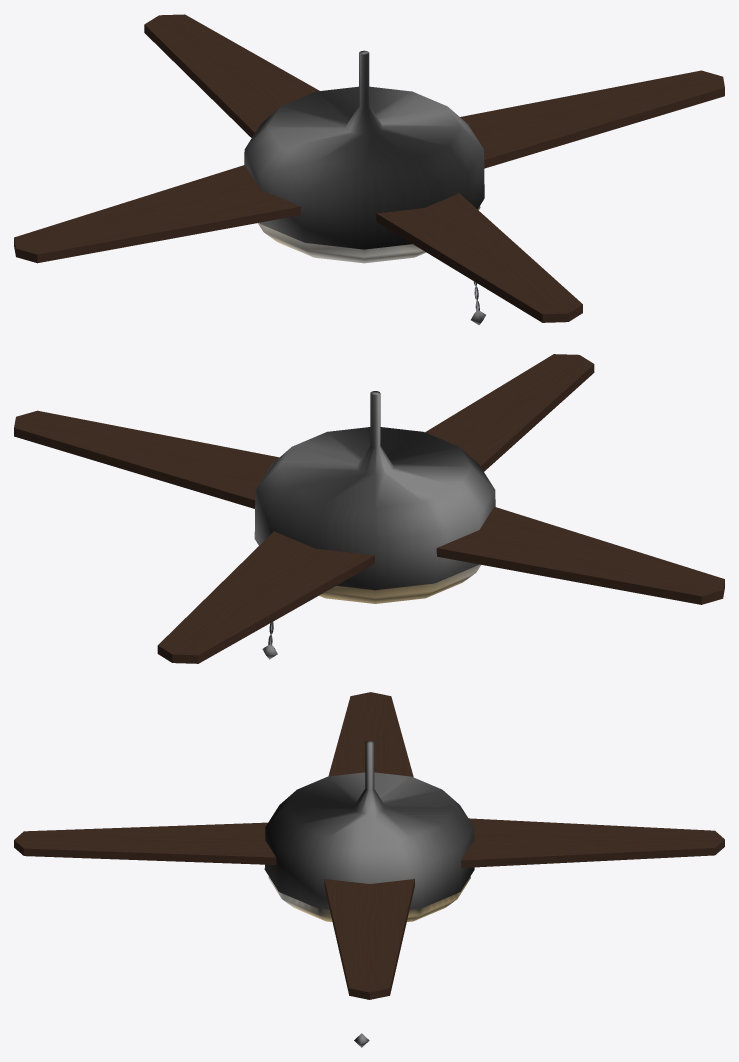
The model's file is Ceiling_Fan_B.FBX.
The picture shows the model from 3 angles, top to bottom: view 1: azimuth 30°, elevation 25°; view 2: azimuth 150°, elevation 25°; view 3: azimuth 270°, elevation 25°; orthographic projection. The views are drawn at different scales.
Parts seen in each view (by area): view 1: Fan_Blades, Ceiling_Fan; view 2: Fan_Blades, Ceiling_Fan; view 3: Fan_Blades, Ceiling_Fan.
Boxes of the visible parts, box(x1,y1,x2,y2) form: Fan_Blades: box(14, 14, 724, 322); Ceiling_Fan: box(244, 50, 485, 324); Fan_Blades: box(14, 354, 724, 663); Ceiling_Fan: box(254, 391, 495, 659); Fan_Blades: box(14, 692, 724, 999); Ceiling_Fan: box(264, 741, 474, 1047).
Bounding box in the file's own units: 409 × 164 × 409.
